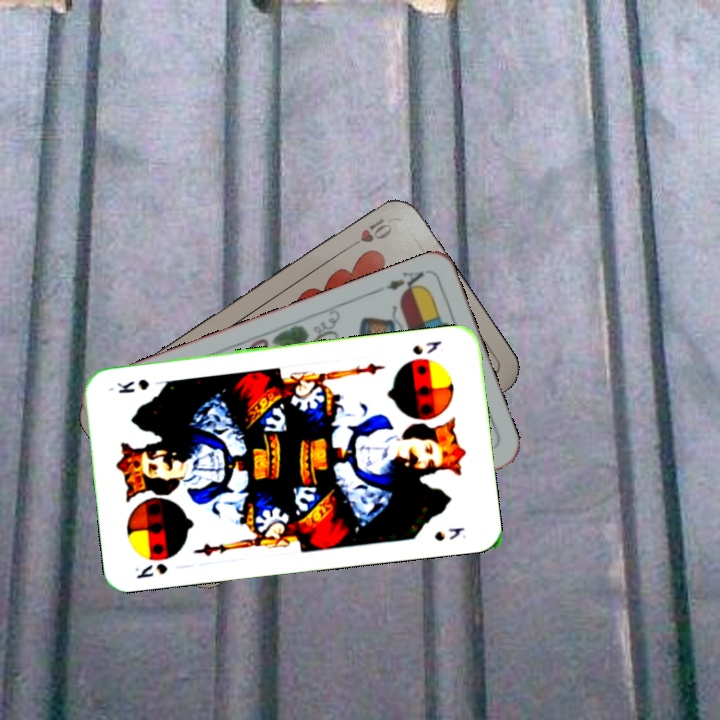EA: (373, 267, 428, 299)
H10: (341, 214, 395, 253)
SK: (131, 559, 170, 582), (408, 337, 444, 358)
